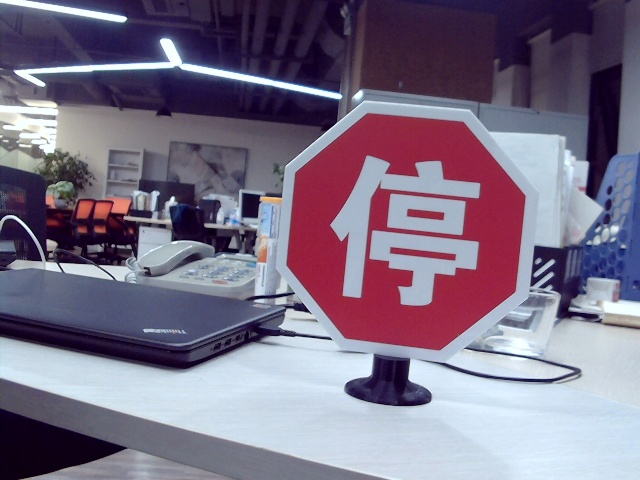stop: (333, 149, 480, 306)
